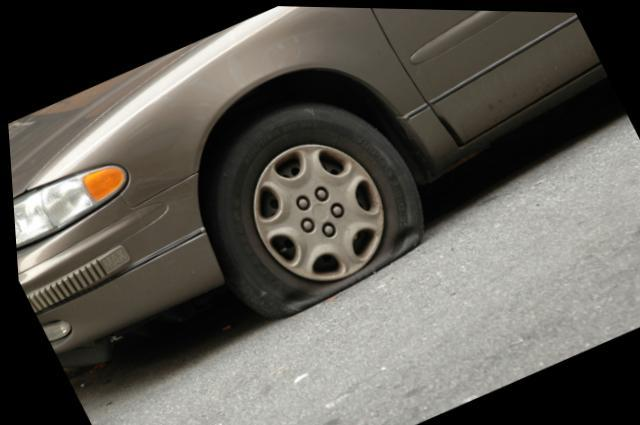tire flat: (202, 100, 420, 316)
